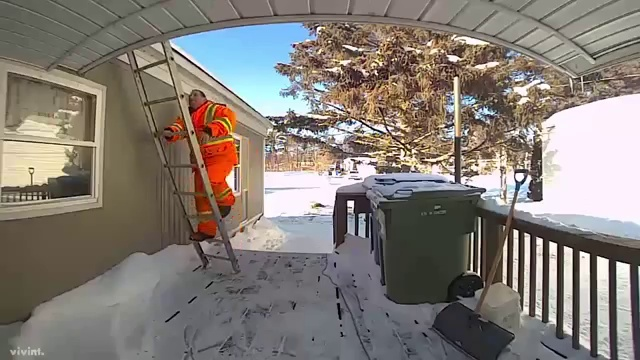face: (186, 90, 202, 110)
